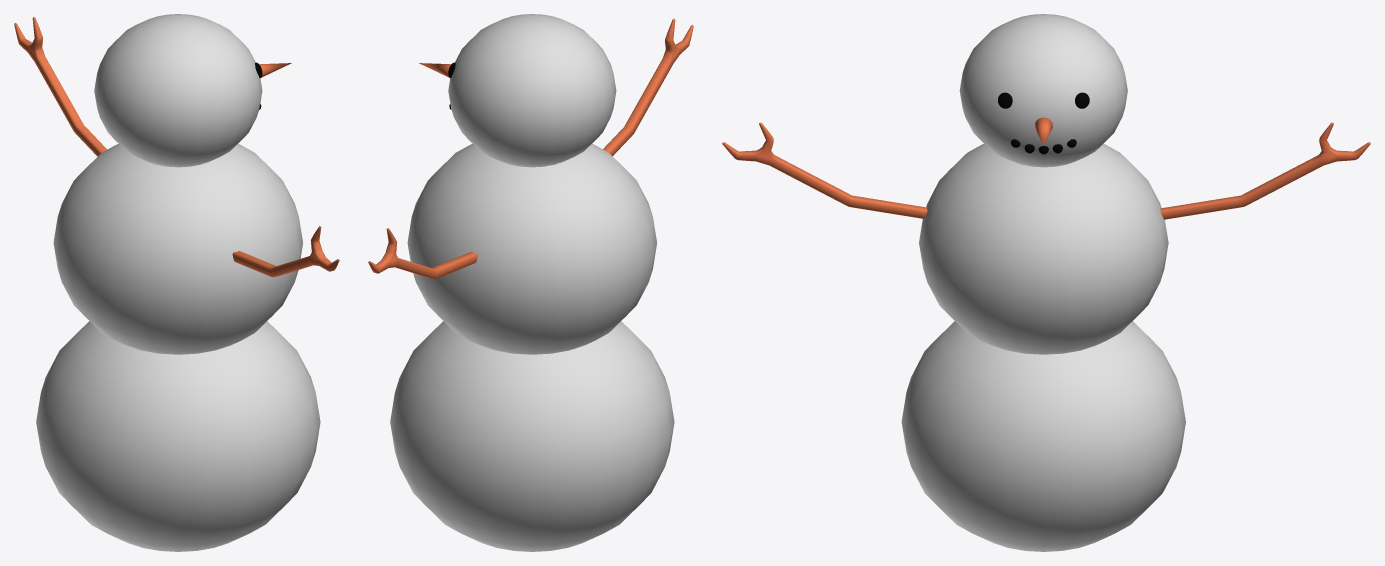
Rendered from Snowman.fbx.
3 views of the same model, side by side, from view 1: azimuth 30°, elevation 25°; view 2: azimuth 150°, elevation 25°; view 3: azimuth 270°, elevation 25° (orthographic).
Parts seen in each view (by area): view 1: Snowman; view 2: Snowman; view 3: Snowman.
Part boxes in pixels (<box>): Snowman: <box>14,14,339,551</box>; Snowman: <box>368,14,693,551</box>; Snowman: <box>722,14,1370,551</box>.
Bounding box in the file's own units: 2 × 3.99 × 4.56.
